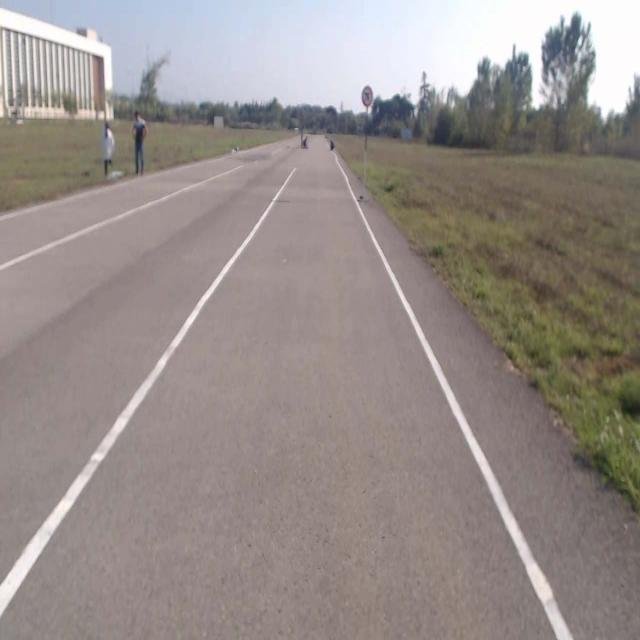soladonulmez: (362, 85, 372, 106)
